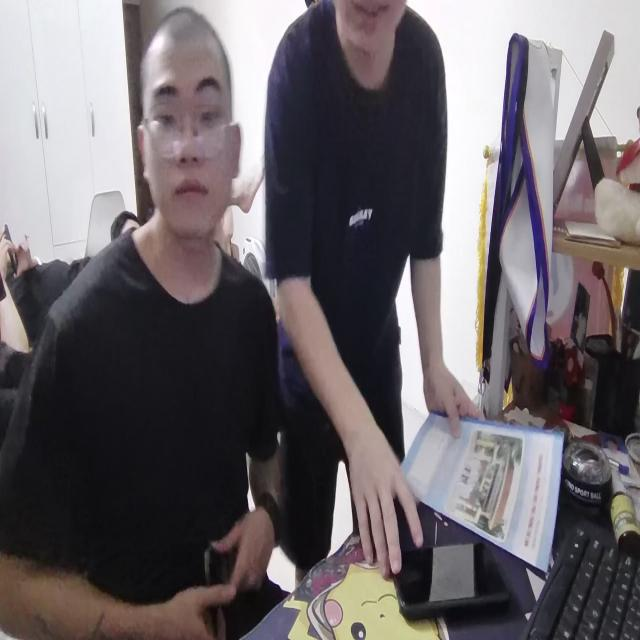book: (398, 398, 564, 573)
extra_person: (262, 0, 482, 584)
phone: (391, 535, 509, 625)
student: (6, 8, 288, 640)
